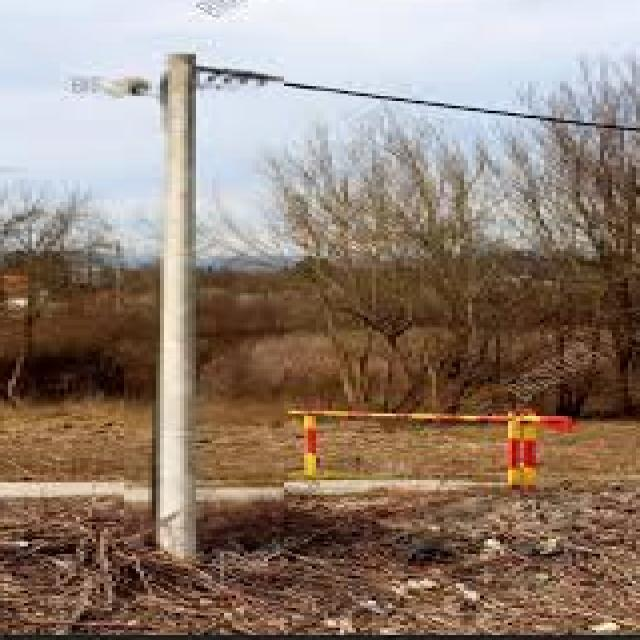light_pole: (124, 35, 284, 552)
